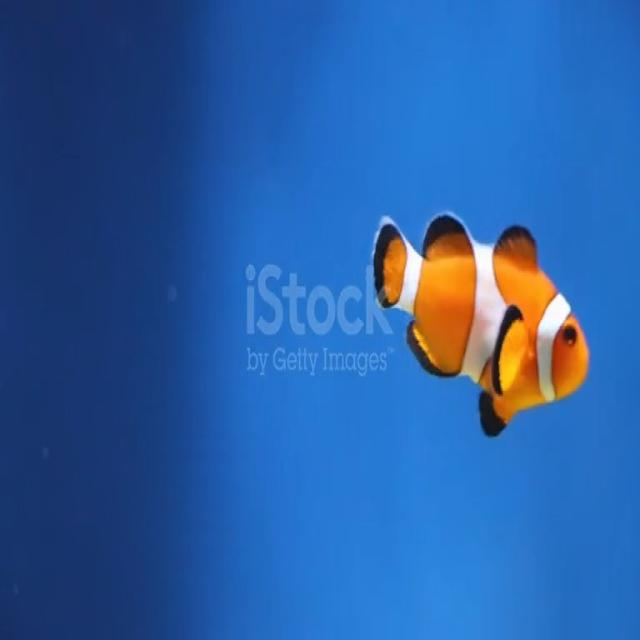fish: (371, 212, 590, 438)
